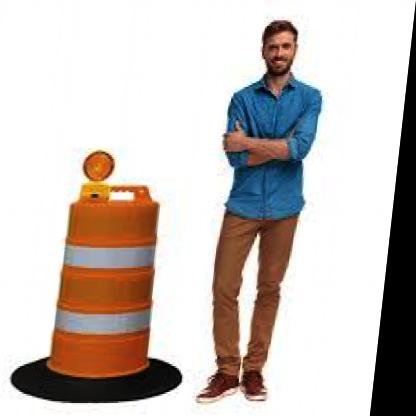obstacle: (62, 178, 184, 387)
